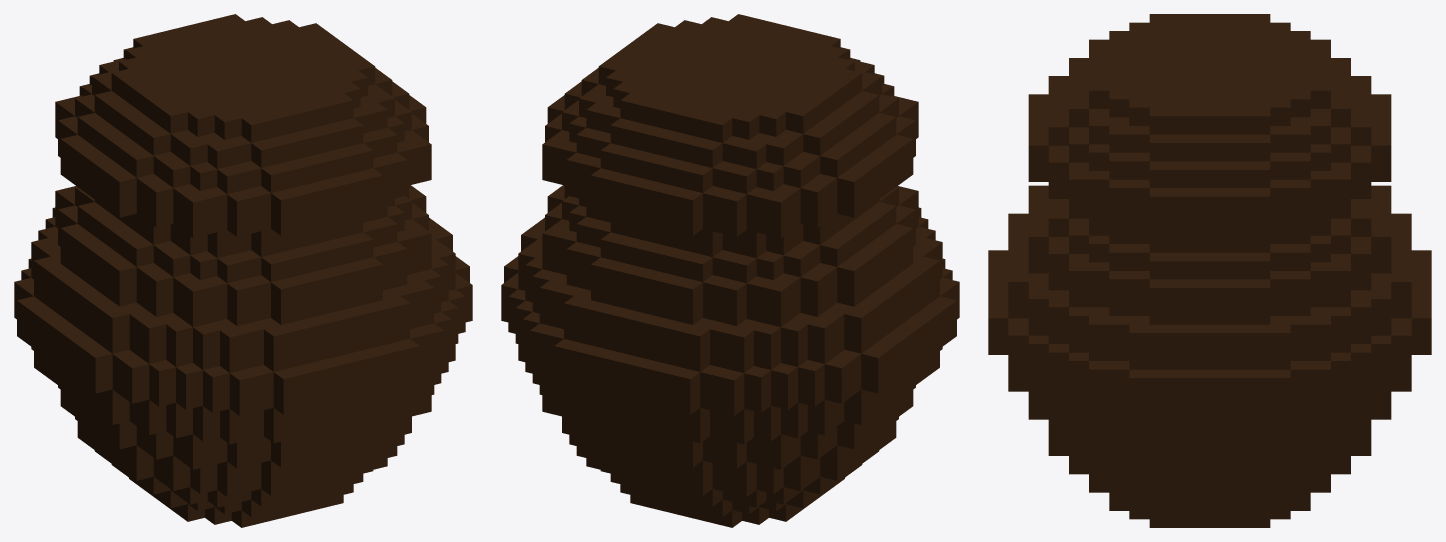
Rendered from Korean_item_03.FBX.
3 renders of one model, left to right at view 1: azimuth 30°, elevation 25°; view 2: azimuth 150°, elevation 25°; view 3: azimuth 270°, elevation 25°, orthographic. The views are drawn at different scales.
Visible parts, largest first — view 1: Voxel_Korean_traditional village-23; view 2: Voxel_Korean_traditional village-23; view 3: Voxel_Korean_traditional village-23.
Boxes of the visible parts, box(x1,y1,x2,y2) form: Voxel_Korean_traditional village-23: box(14, 14, 472, 527); Voxel_Korean_traditional village-23: box(501, 14, 959, 527); Voxel_Korean_traditional village-23: box(988, 14, 1431, 527).
Bounding box in the file's own units: 22 × 22.99 × 22.
1 material, 1 textured.
